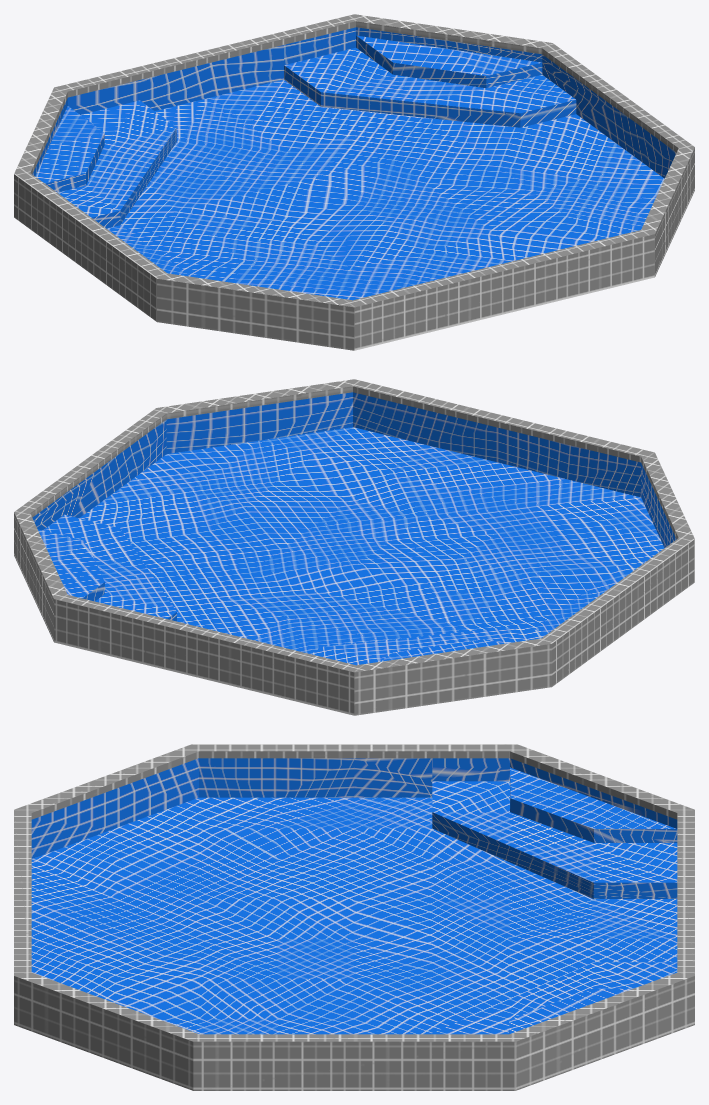
Rendered from pool.glb.
3 views of the same model, one above another, from view 1: azimuth 30°, elevation 25°; view 2: azimuth 150°, elevation 25°; view 3: azimuth 270°, elevation 25° (orthographic). The views are drawn at different scales.
Visible parts, largest first — view 1: underwater, pool; view 2: underwater, pool; view 3: underwater, pool.
Boxes of the visible parts, x1,y1,x2,y2 form: underwater: (32,27,676,300); pool: (14,14,694,350); underwater: (32,392,676,665); pool: (14,379,694,715); underwater: (31,758,677,1034); pool: (14,744,694,1090).
Size of the model in its own units: 12.99 by 1 by 12.55.
Materials: 2 (2 with a texture image).
